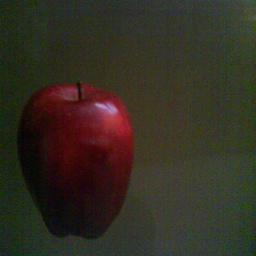apple: (15, 85, 136, 243)
